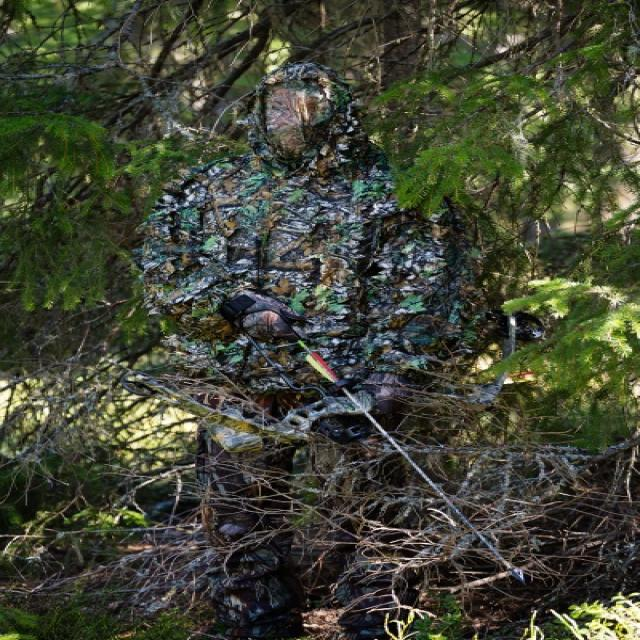Camouflage: (143, 60, 502, 614)
